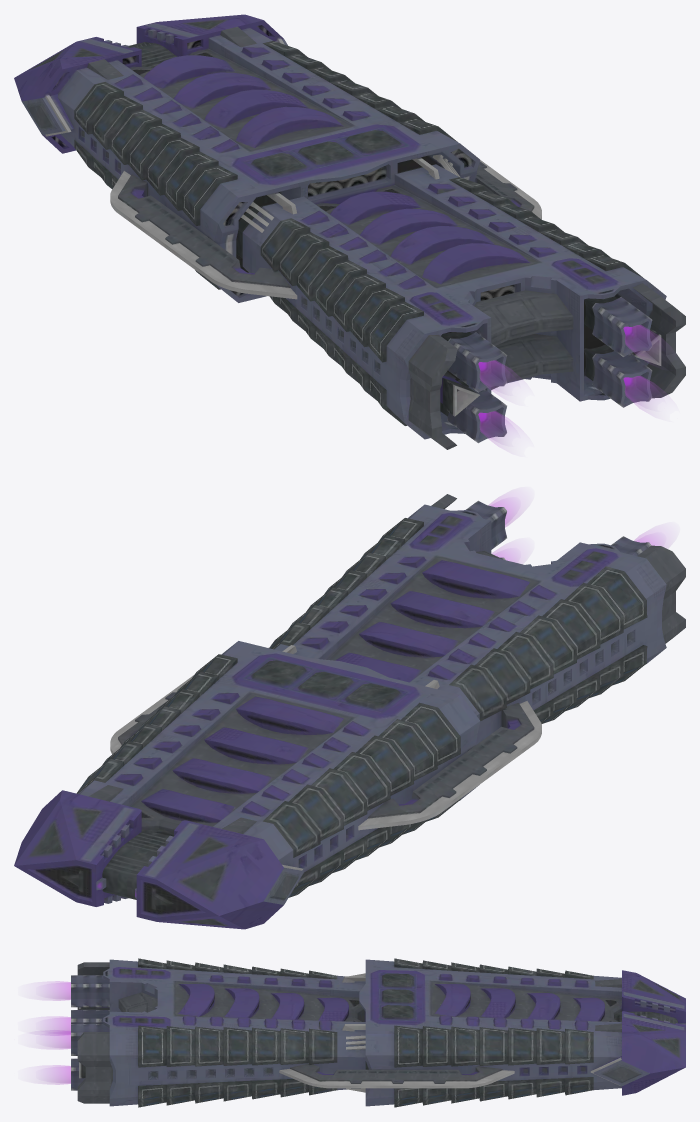
File: holder-hero-archimedes.glb
3 renders of one model, top to bottom at view 1: azimuth 30°, elevation 25°; view 2: azimuth 150°, elevation 25°; view 3: azimuth 270°, elevation 25°, orthographic. The views are drawn at different scales.
Visible parts, largest first — view 1: Base, Sphere, Sphere.002; view 2: Base, Sphere; view 3: Base, Sphere, Sphere.002.
Part boxes in pixels (left/top/right/bottom): Base: left=14, top=14, right=685, bottom=449; Sphere: left=478, top=325, right=663, bottom=447; Sphere.002: left=479, top=326, right=648, bottom=435; Base: left=14, top=494, right=685, bottom=929; Sphere: left=489, top=492, right=669, bottom=563; Base: left=71, top=958, right=685, bottom=1107; Sphere: left=30, top=981, right=70, bottom=1084; Sphere.002: left=52, top=983, right=70, bottom=1082.
Size of the model in its own units: 8 by 2.79 by 20.99.
2 materials, 2 textured.
